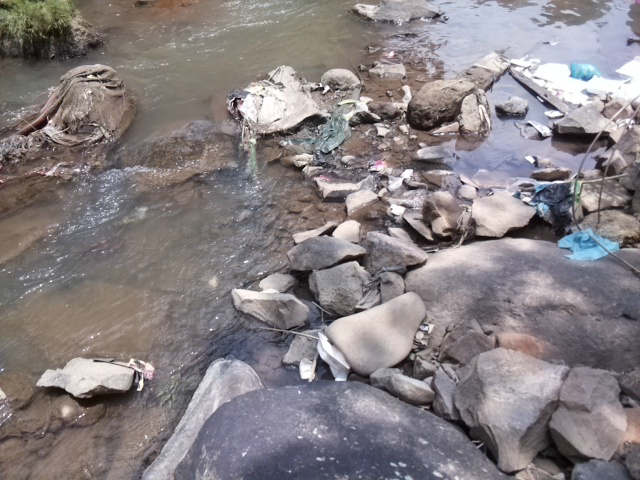Sampah_Plastik: (526, 176, 582, 227), (558, 227, 622, 265), (570, 59, 600, 83), (367, 158, 386, 173)
Sampah_Styrofoam: (315, 333, 349, 382)
